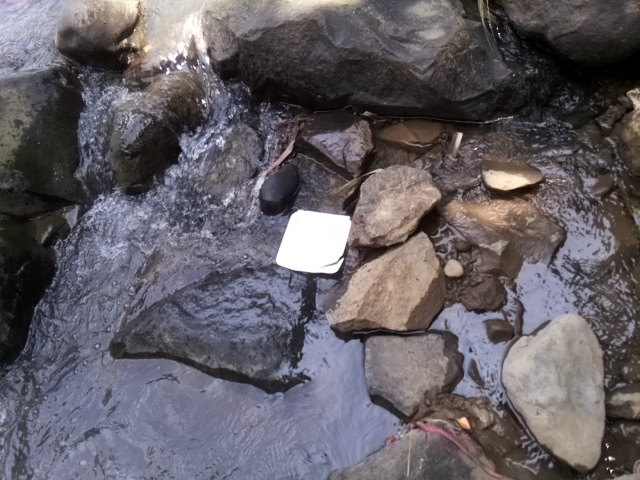Sampah_Styrofoam: (273, 205, 353, 276)
